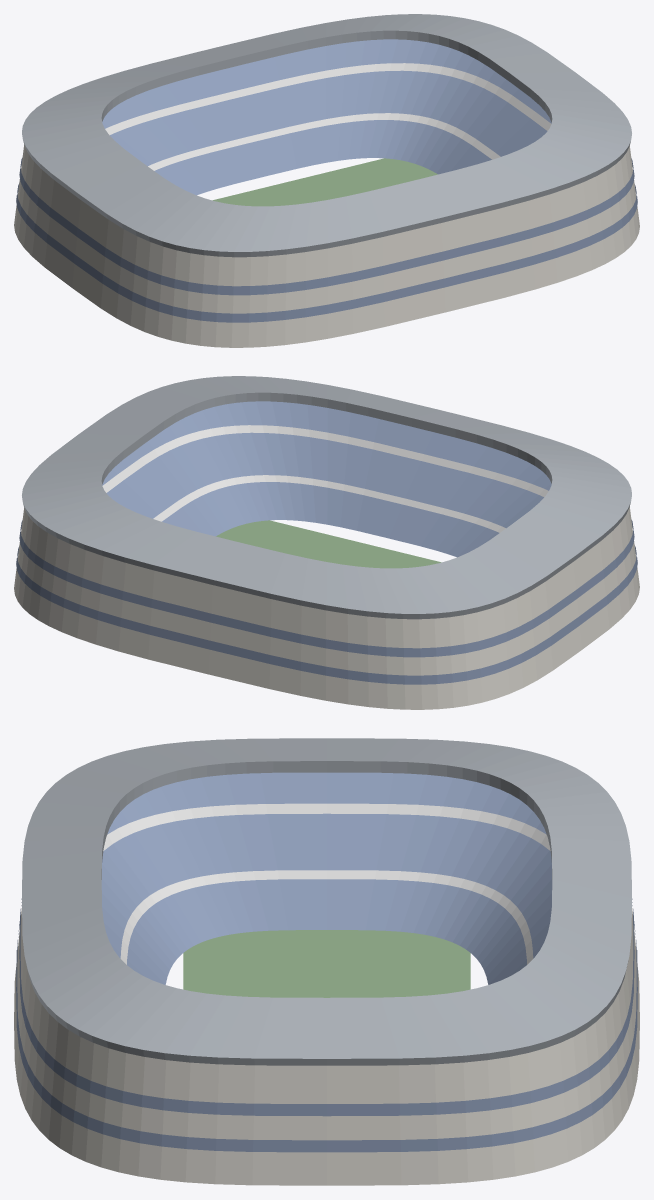
Rendered from riazor.glb.
3 renders of one model, top to bottom at view 1: azimuth 30°, elevation 25°; view 2: azimuth 150°, elevation 25°; view 3: azimuth 270°, elevation 25°, orthographic. The views are drawn at different scales.
Size of the model in its own units: 184 by 37 by 148.
